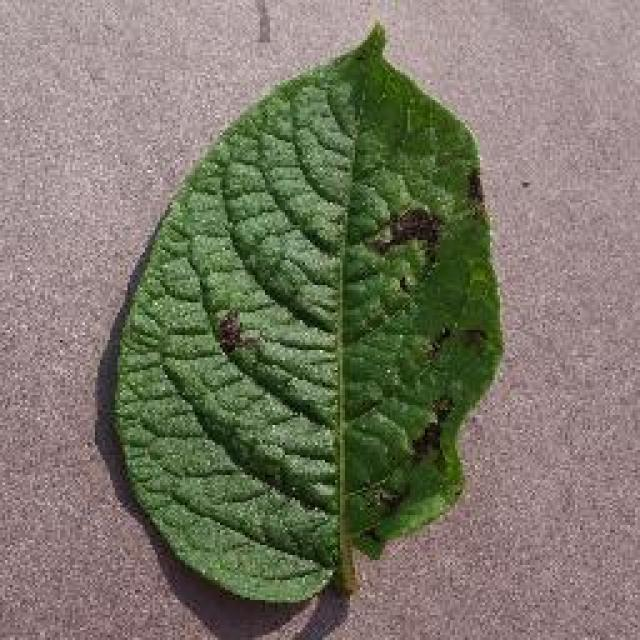Potato: (107, 17, 505, 605)
